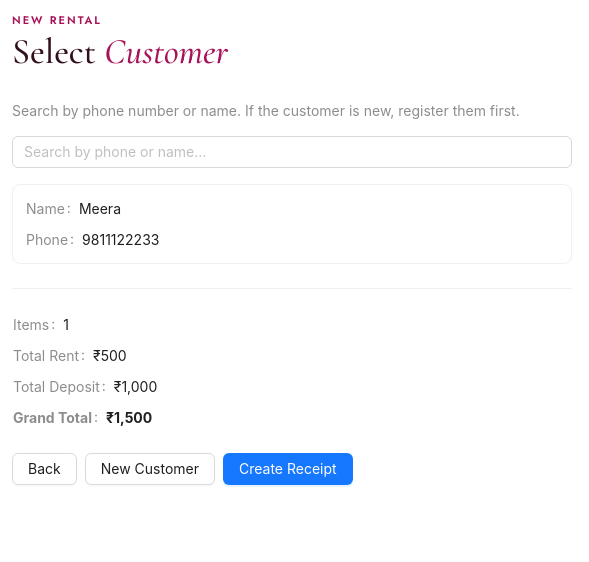
Scenario: CheckoutPage custom product entry › surfaces the backend 400 when a non-owner submits a cart with an inherited ad-hoc line
The image size is (589, 562).
Click the button "Create Receipt": click(288, 469) [223,453,353,485]
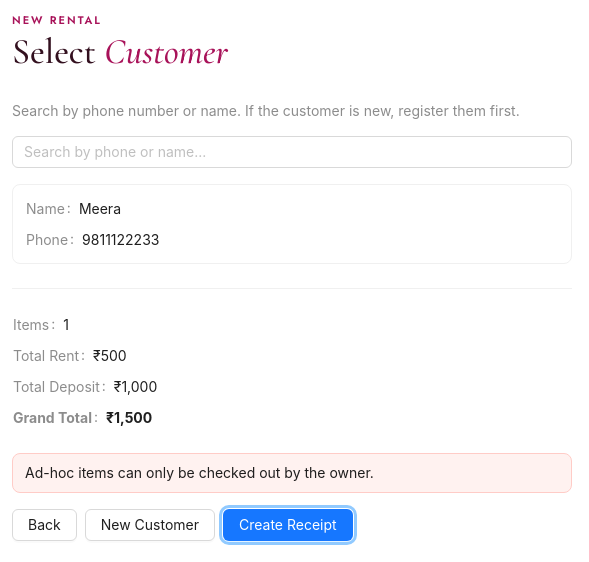
Expected: the text "Ad-hoc items can only be checked out by the owner." is shown, [25,464,374,481]
